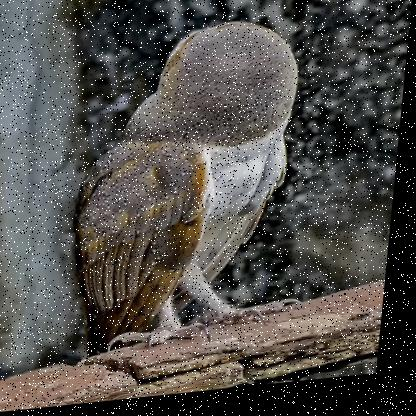Burung: (70, 19, 308, 364)
